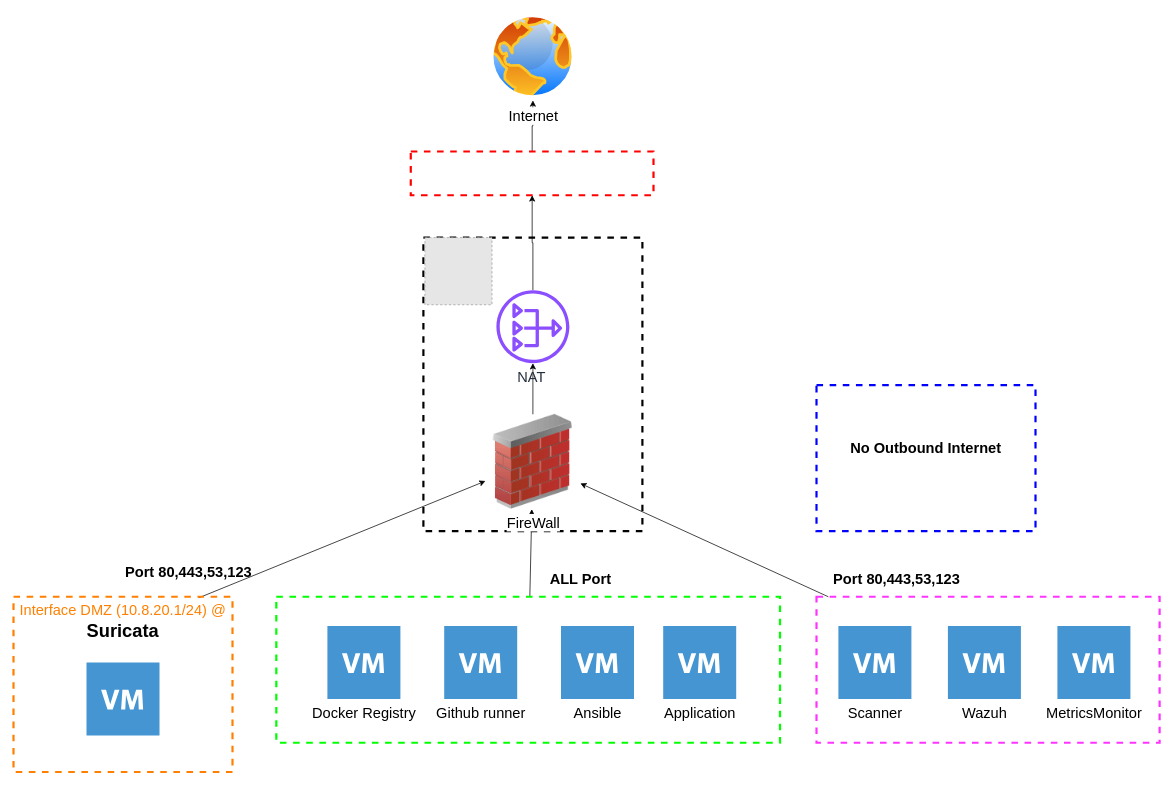
Some shapes in this 1173 by 785 pixel diagram are drawn without their labels. Grey dashed boxes stand in for pictures. Each missing label, with the box of its shape:
Bastion: (86, 662, 159, 735)
Interface LAN (10.8.10.1/24): (275, 595, 781, 744)
Interface MONITOR (10.8.30.1/24): (815, 595, 1160, 744)
Interface VPN (10.8.40.1/24): (815, 384, 1036, 532)
Interface WAN @ Suricata: (409, 150, 654, 196)
OPNsense VM: (422, 236, 643, 532)
